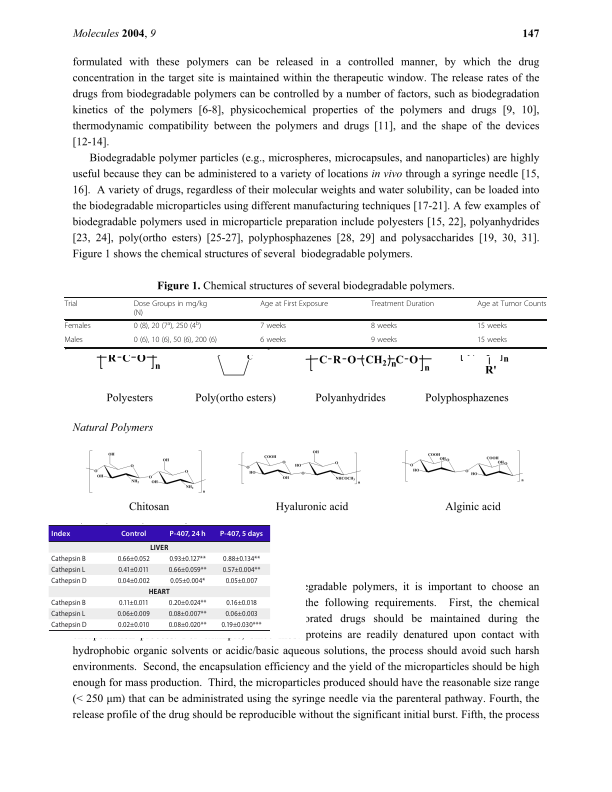borderless: (63, 296, 546, 347), (49, 523, 270, 630)
cell: (133, 300, 208, 318), (133, 336, 218, 346), (133, 320, 202, 332), (476, 300, 547, 309), (259, 300, 329, 309), (370, 300, 435, 309), (219, 529, 264, 538), (220, 621, 262, 630), (168, 554, 207, 563), (222, 554, 261, 563), (168, 565, 207, 574), (222, 565, 261, 574), (168, 599, 207, 608), (168, 610, 207, 619), (168, 621, 207, 630), (169, 529, 207, 538), (50, 554, 87, 563), (50, 576, 87, 585), (169, 576, 206, 585), (50, 599, 87, 608), (50, 621, 87, 630), (50, 565, 86, 574), (50, 610, 86, 619), (476, 322, 508, 332), (476, 336, 508, 346), (116, 610, 151, 619), (224, 610, 259, 619), (117, 554, 151, 563), (117, 576, 151, 585), (117, 565, 150, 574), (225, 576, 258, 585), (225, 599, 258, 608), (117, 621, 150, 630), (259, 322, 287, 332), (370, 322, 398, 332), (259, 336, 287, 346), (370, 336, 398, 346), (118, 599, 149, 608), (64, 322, 91, 332), (120, 529, 147, 538), (63, 336, 84, 346), (50, 529, 71, 538), (148, 588, 171, 595), (149, 543, 169, 550), (64, 300, 78, 309)
